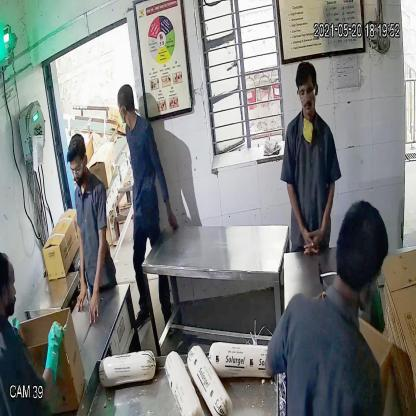goggles: (295, 86, 318, 101), (68, 159, 85, 179)
